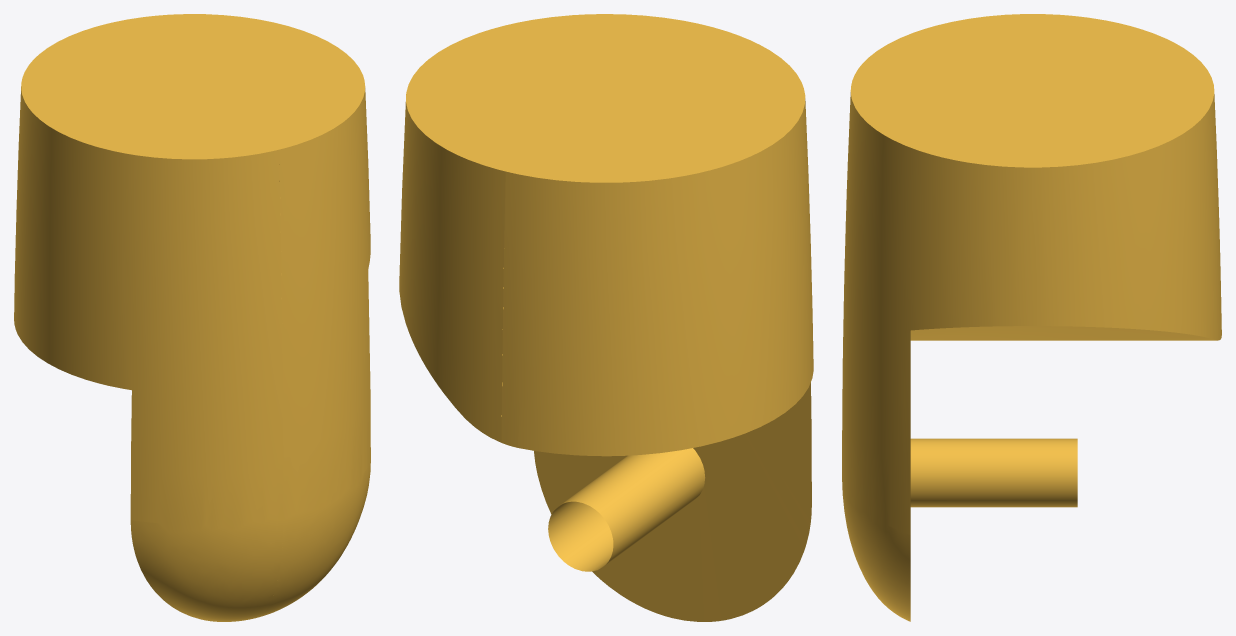
Rendered from arml2.obj.
3 views of the same model, side by side, from view 1: azimuth 30°, elevation 25°; view 2: azimuth 150°, elevation 25°; view 3: azimuth 270°, elevation 25° (orthographic). The views are drawn at different scales.
Parts seen in each view (by area): view 1: arml2_004-mesh; view 2: arml2_004-mesh; view 3: arml2_004-mesh.
Part boxes in pixels (x1,y1,x2,y2): arml2_004-mesh: (14,14,370,621); arml2_004-mesh: (399,14,813,621); arml2_004-mesh: (842,14,1221,621).
Bounding box in the file's own units: 0.1099 × 0.1665 × 0.1108.
Materials: 1 (1 with a texture image).
